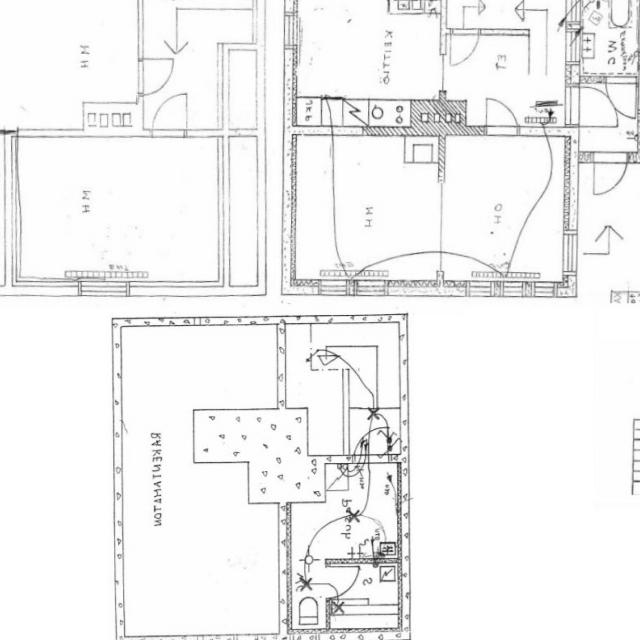door: (564, 86, 614, 126), (353, 416, 389, 463), (594, 153, 627, 200), (154, 92, 188, 137), (138, 59, 176, 95), (487, 92, 517, 137), (606, 77, 636, 117), (451, 28, 479, 66), (325, 567, 358, 598)
